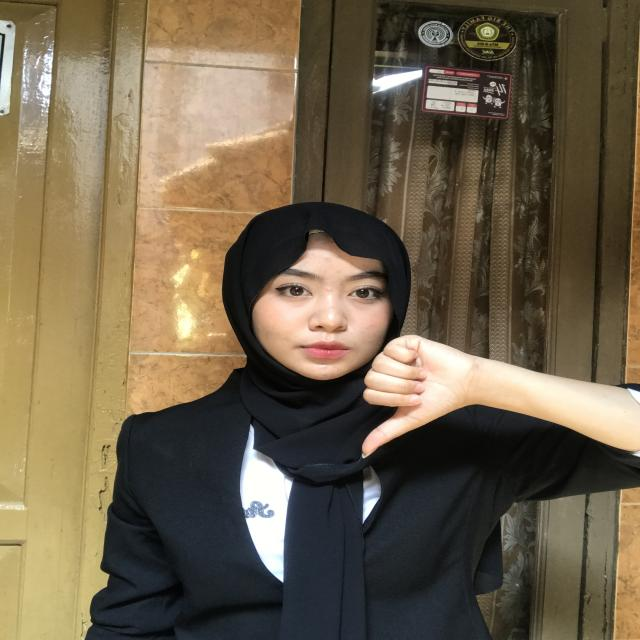sedih: (326, 319, 480, 479)
